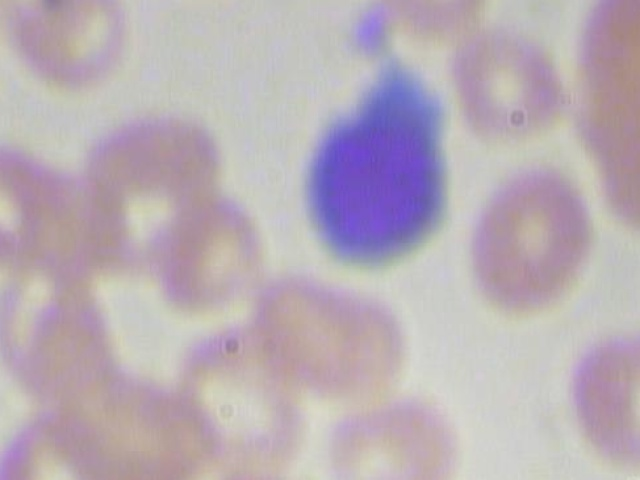Platelets: (351, 0, 397, 61)
WBC: (280, 56, 472, 294)
